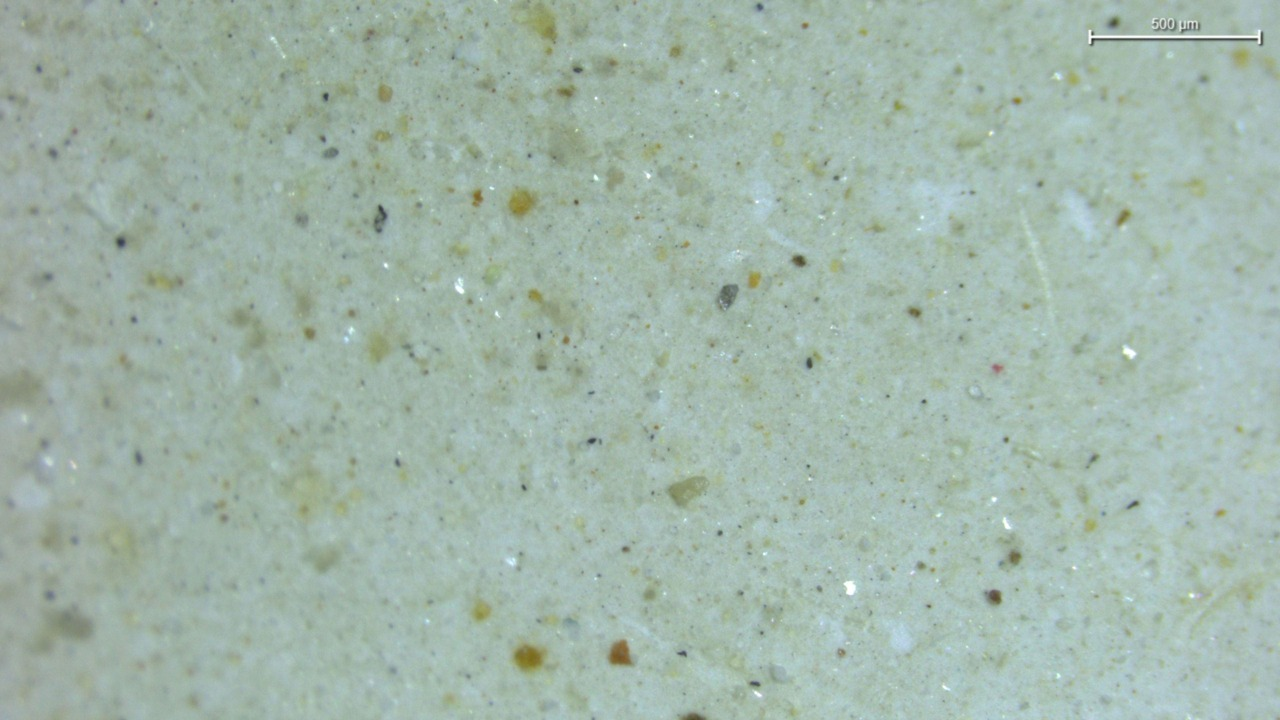microplastic_fragment: (668, 476, 708, 507)
